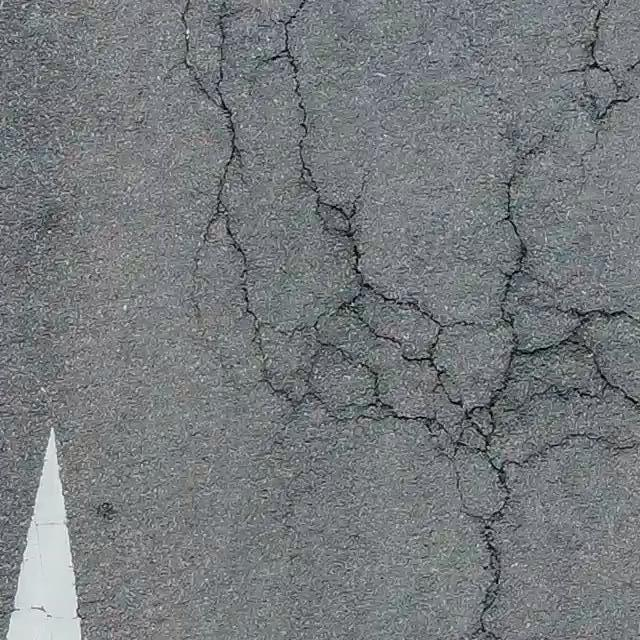GRIETA: (478, 525, 501, 639)
PIEL DE COCODRILO: (177, 0, 639, 526)
